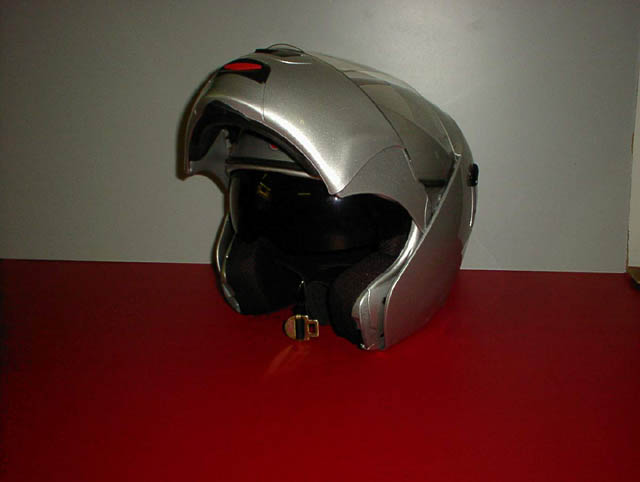helmet: (192, 63, 462, 317)
